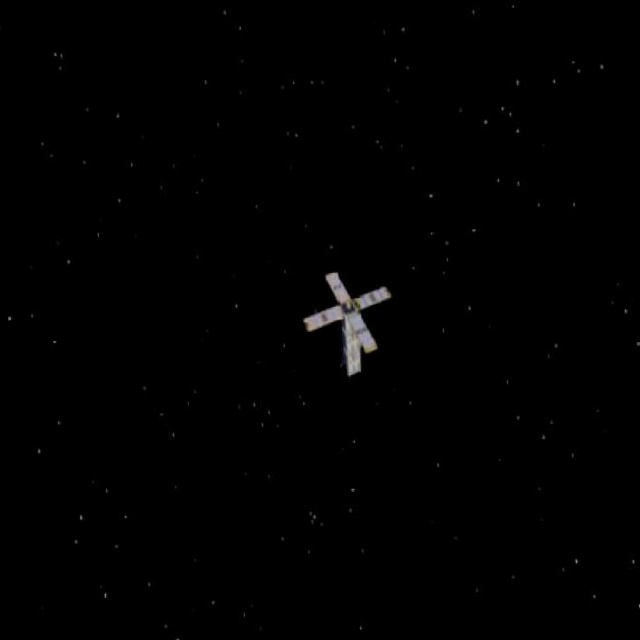satellite: (291, 249, 414, 388)
